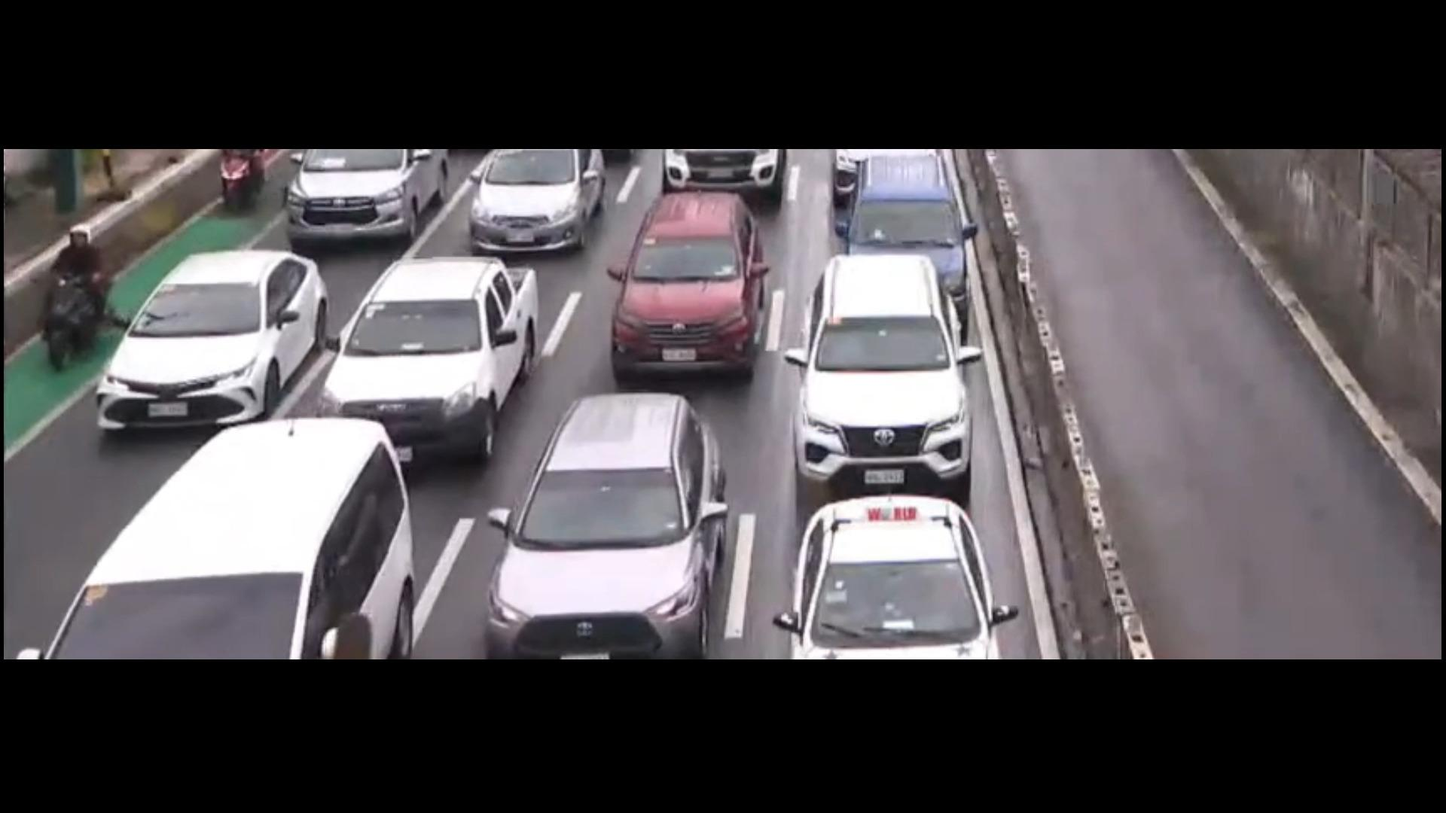Motorcycle: (36, 202, 111, 385), (208, 128, 273, 230)
Pickup: (309, 237, 567, 447)
SUV: (474, 394, 735, 662), (757, 243, 1013, 504), (598, 194, 793, 384), (833, 155, 989, 298)
Sedan: (87, 236, 362, 444), (741, 495, 1017, 672), (468, 147, 624, 254)
Van: (26, 416, 433, 663)
